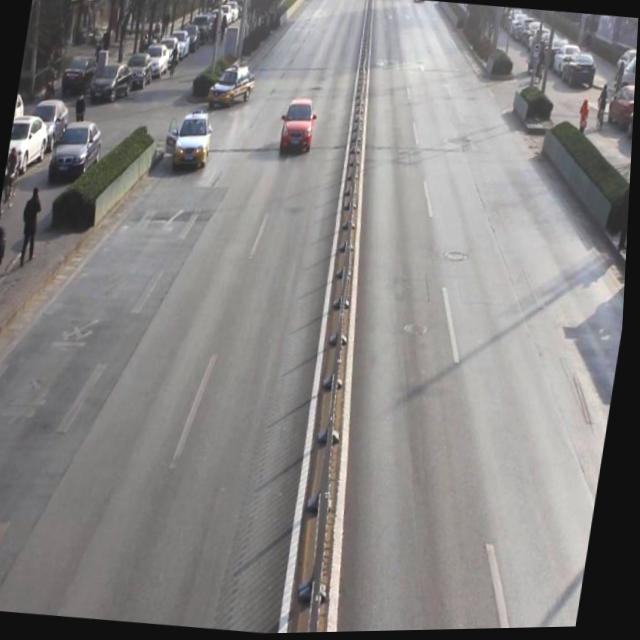car: (170, 104, 217, 177), (277, 91, 321, 162), (208, 58, 261, 111)
